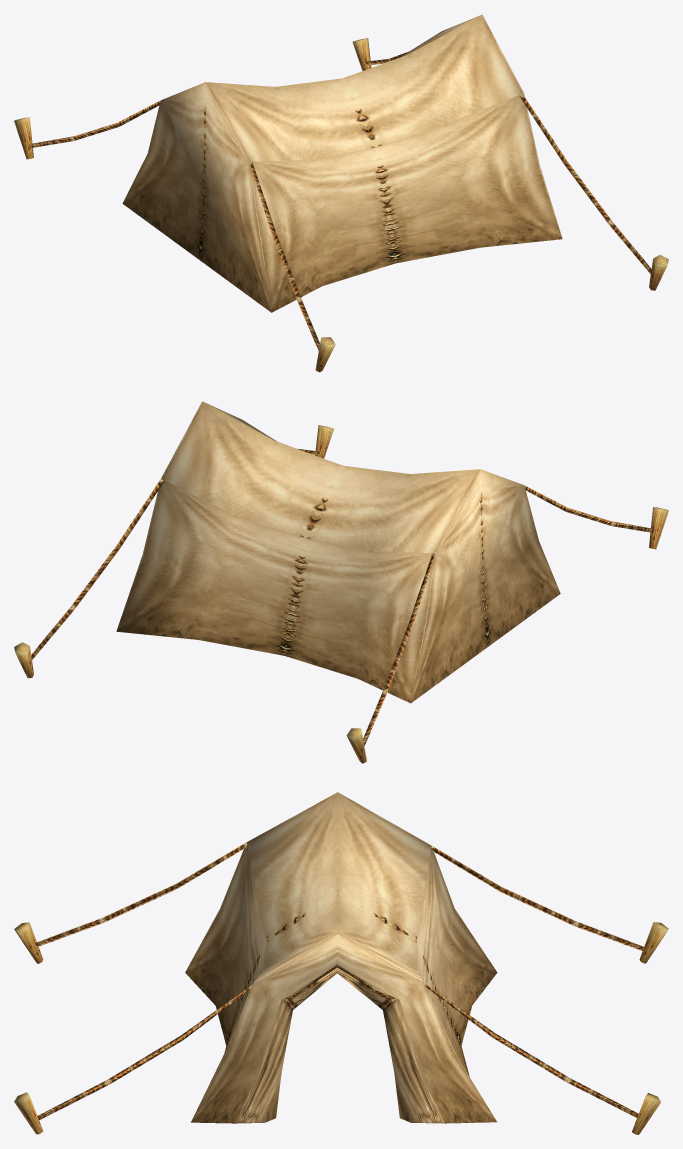
Rendered from humantentmedium.obj.
3 renders of one model, top to bottom at view 1: azimuth 30°, elevation 25°; view 2: azimuth 150°, elevation 25°; view 3: azimuth 270°, elevation 25°, orthographic. The views are drawn at different scales.
Parts seen in each view (by area): view 1: Geoset1, Geoset0; view 2: Geoset1, Geoset0; view 3: Geoset1, Geoset0.
Boxes of the visible parts, x1=… form: Geoset1: x1=29, y1=14, x2=651, y2=350; Geoset0: x1=14, y1=38, x2=668, y2=372; Geoset1: x1=31, y1=401, x2=654, y2=745; Geoset0: x1=14, y1=425, x2=668, y2=763; Geoset1: x1=35, y1=792, x2=645, y2=1123; Geoset0: x1=14, y1=922, x2=668, y2=1134.
Bounding box in the file's own units: 8.8 × 4.26 × 13.61.
2 materials, 2 textured.
